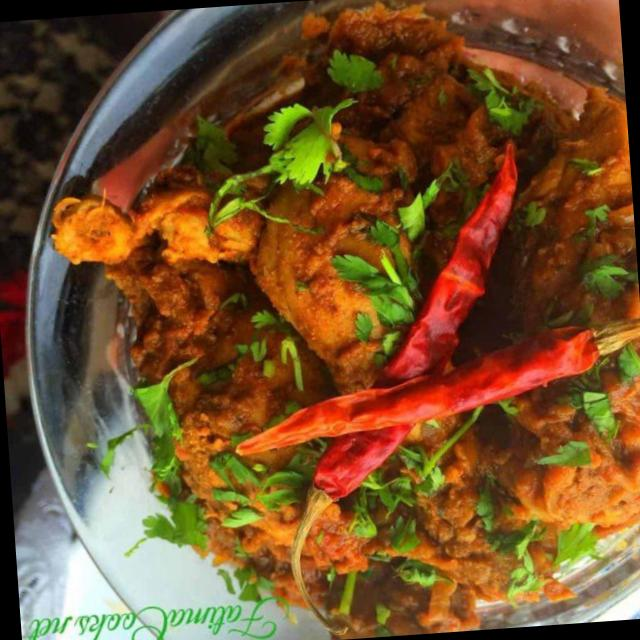chicken: (101, 12, 632, 596)
